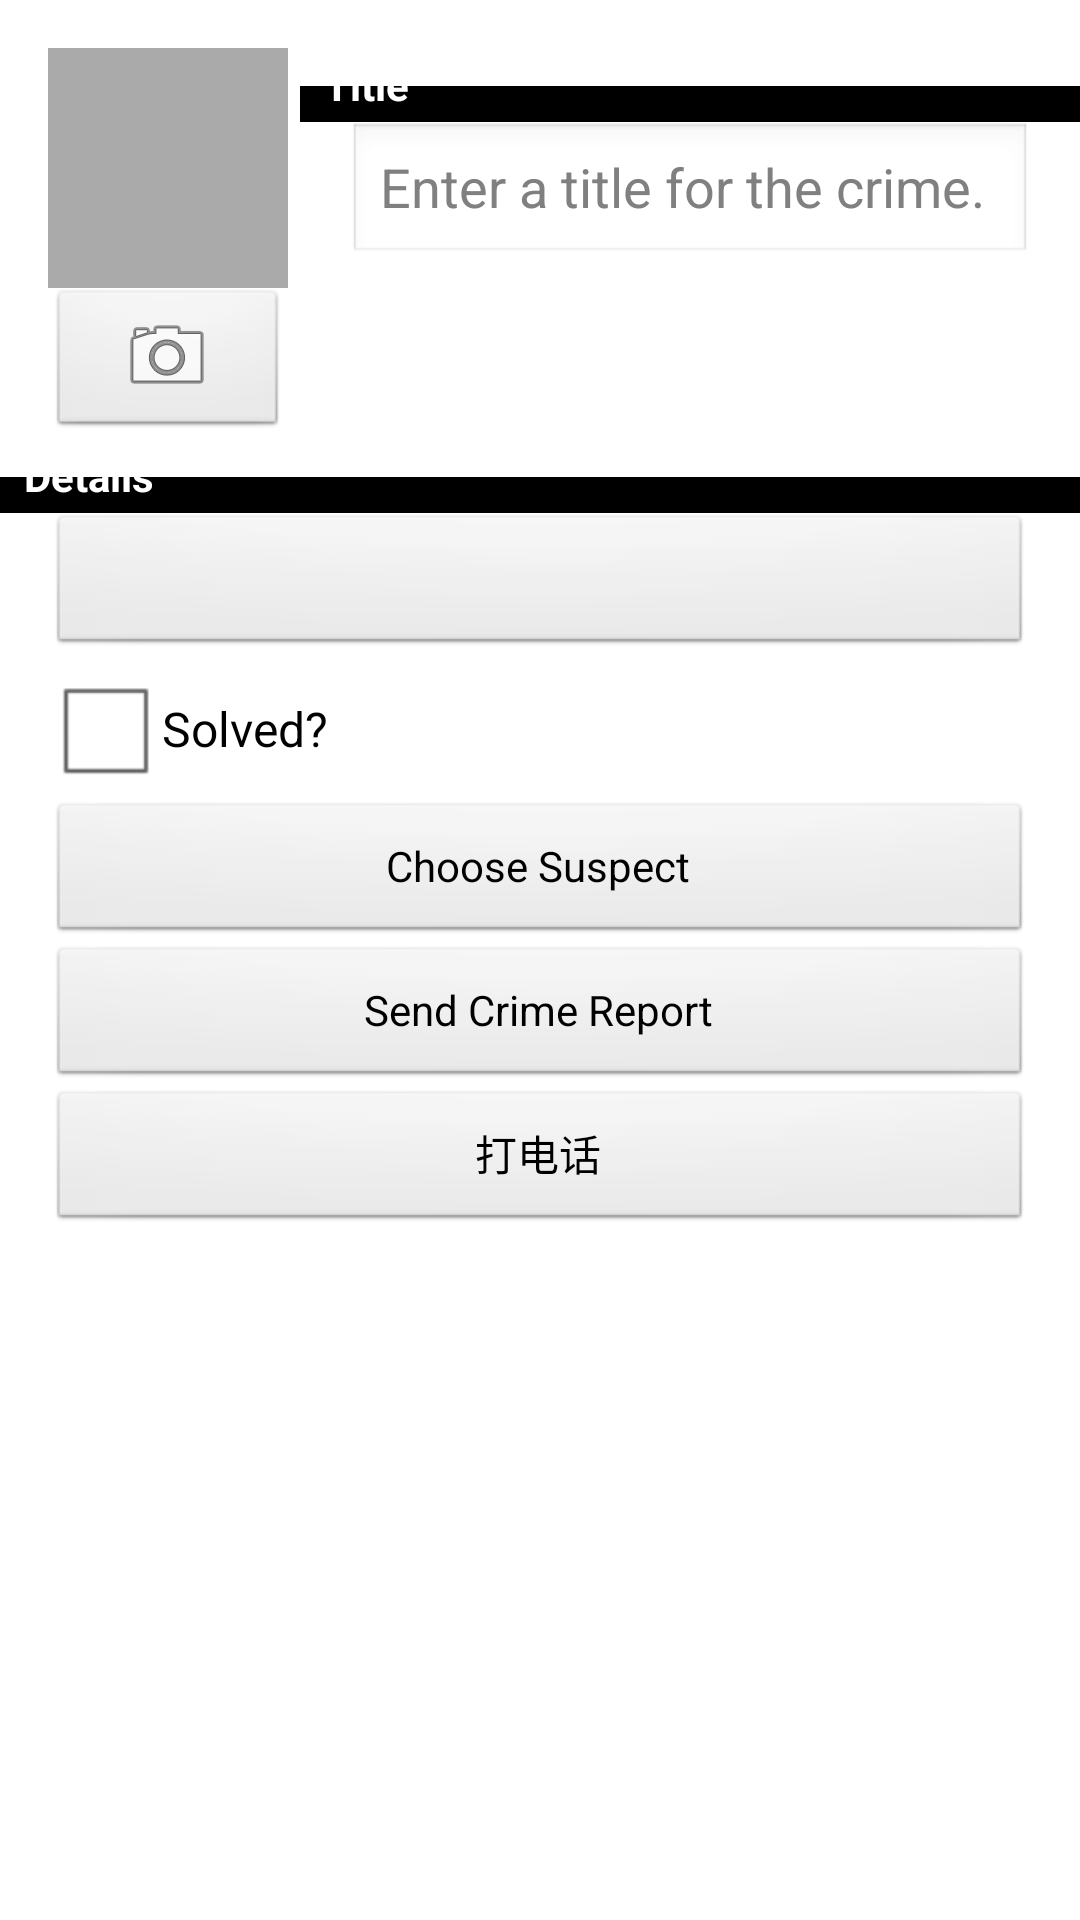

Locate icon controls on the screen. Image size 1080px x 1920px, boxes as (x1, y1, x2, y2).
camera: (56, 290, 279, 427)
